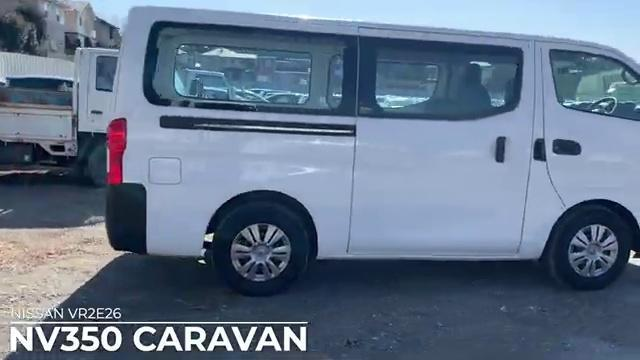van: (113, 5, 640, 287)
